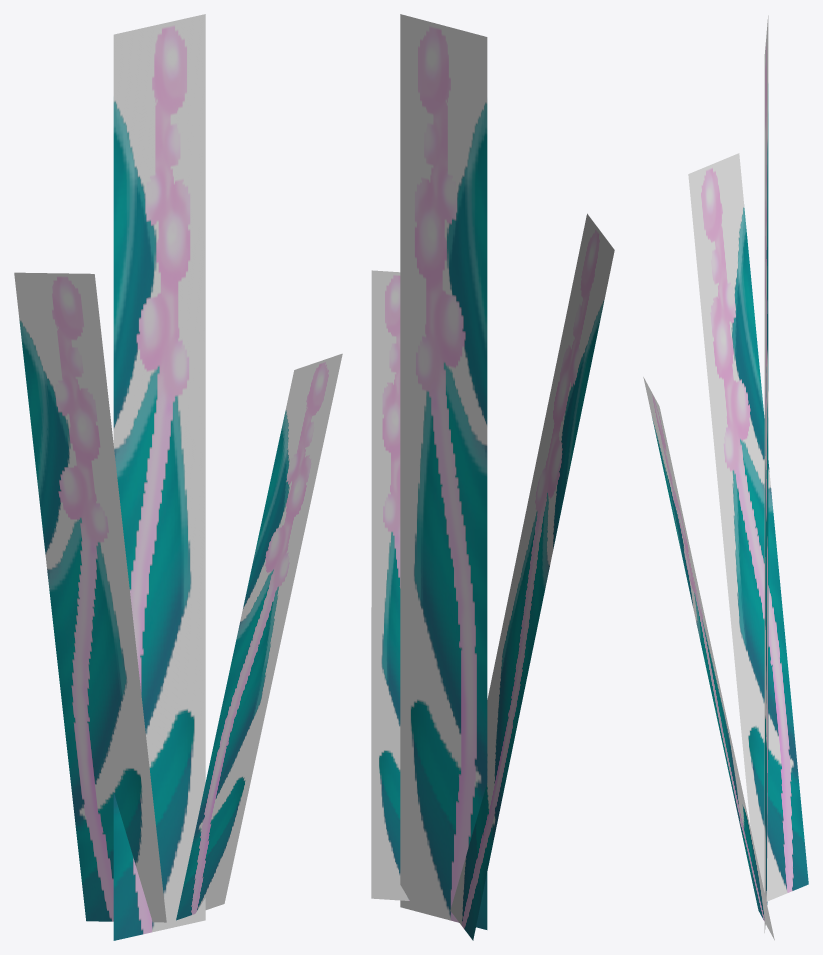
File: Snake_plant_04.fbx
The picture shows the model from 3 angles, left to right: view 1: azimuth 30°, elevation 25°; view 2: azimuth 150°, elevation 25°; view 3: azimuth 270°, elevation 25°; orthographic projection. The views are drawn at different scales.
Visible parts, largest first — view 1: Snake_plant_04; view 2: Snake_plant_04; view 3: Snake_plant_04.
Boxes of the visible parts, x1=… form: Snake_plant_04: x1=14, y1=14, x2=342, y2=940; Snake_plant_04: x1=371, y1=14, x2=614, y2=940; Snake_plant_04: x1=643, y1=15, x2=808, y2=940.
Size of the model in its own units: 52.64 by 159 by 27.06.
Materials: 1 (1 with a texture image).
